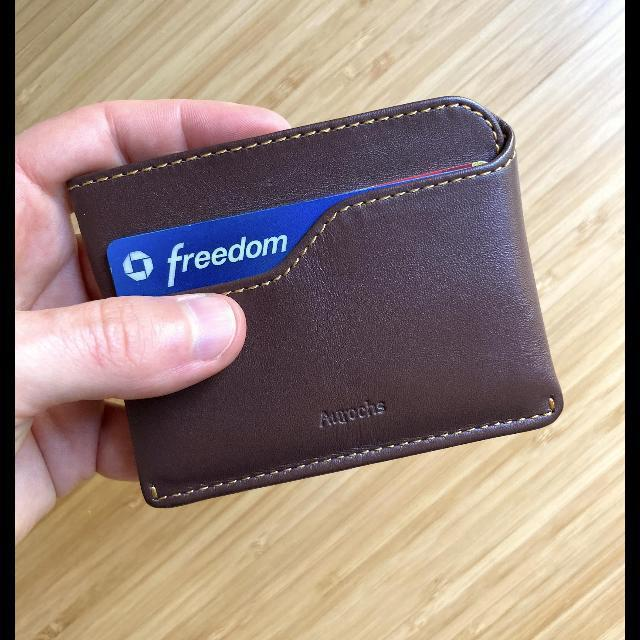wallet: (59, 92, 566, 510)
